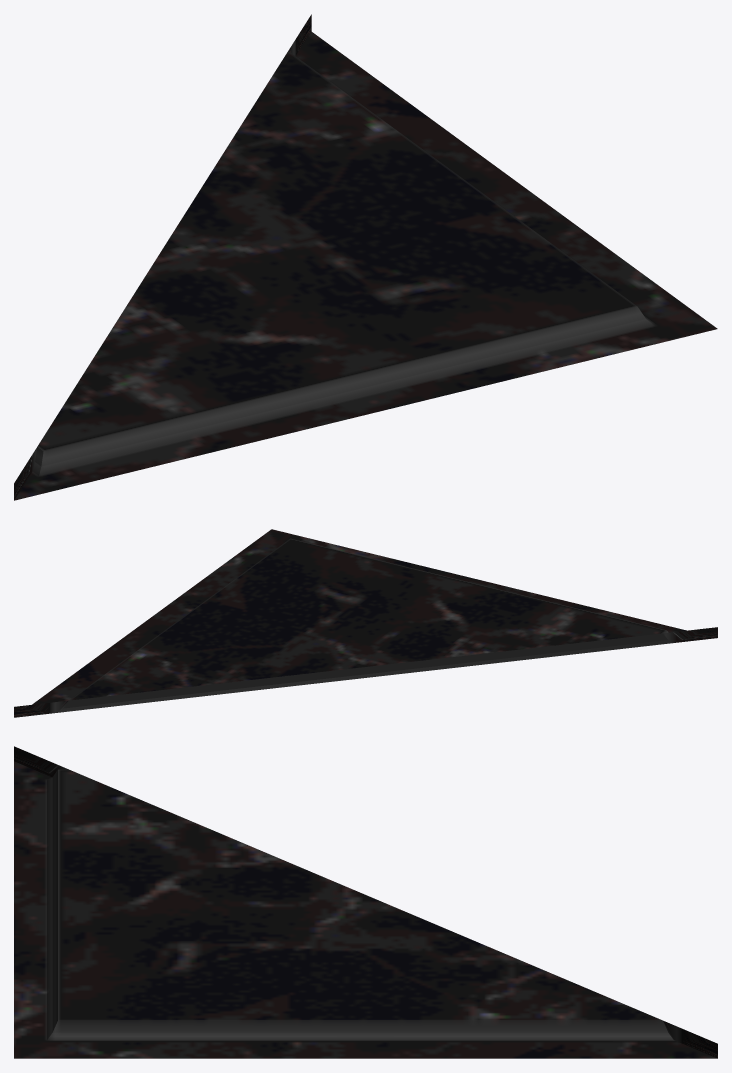
Rendered from sec1_1c_slice45.fbx.
3 views of the same model, one above another, from view 1: azimuth 30°, elevation 25°; view 2: azimuth 150°, elevation 25°; view 3: azimuth 270°, elevation 25° (orthographic). The views are drawn at different scales.
Parts seen in each view (by area): view 1: sec1_1c_mesh; view 2: sec1_1c_mesh; view 3: sec1_1c_mesh.
Boxes of the visible parts, box(x1,y1,x2,y2) form: sec1_1c_mesh: box(14, 14, 717, 500); sec1_1c_mesh: box(14, 529, 717, 717); sec1_1c_mesh: box(14, 746, 717, 1058).
Bounding box in the file's own units: 256 × 6 × 256.
